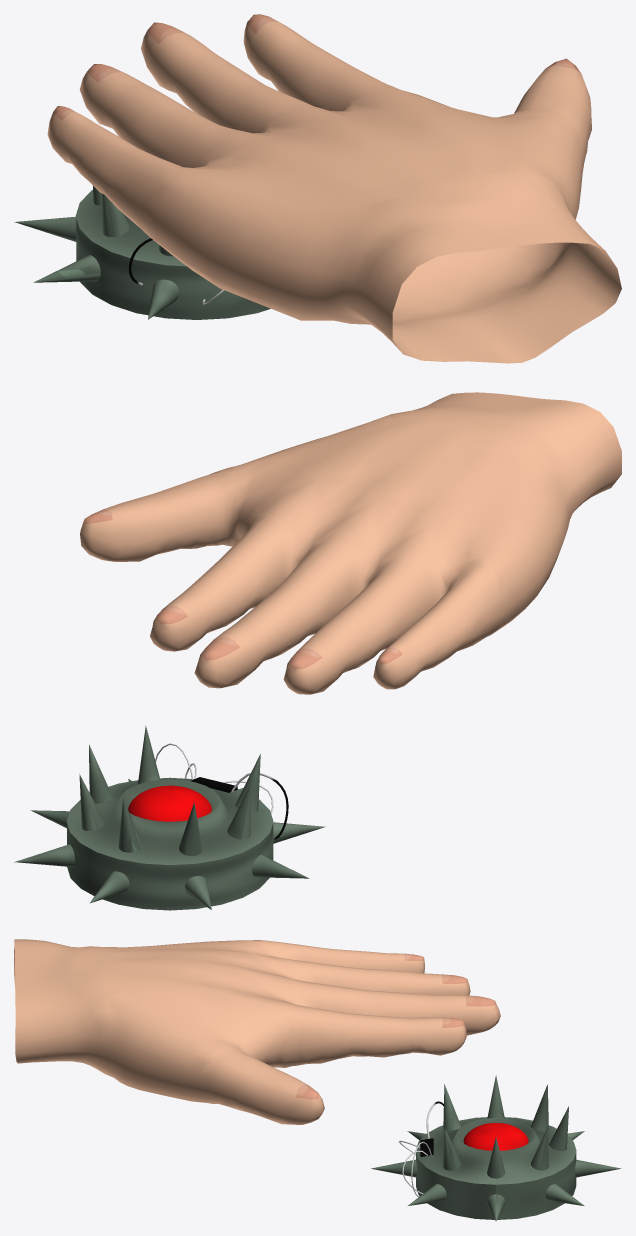
The model's file is 爆弾をたたくモーション.fbx.
3 renders of one model, top to bottom at view 1: azimuth 30°, elevation 25°; view 2: azimuth 150°, elevation 25°; view 3: azimuth 270°, elevation 25°, orthographic. The views are drawn at different scales.
Visible parts, largest first — view 1: hand, Cone001, Cone014, Cone002, Cone016; view 2: hand, Cone002, Cone001, Cone016, Cone014, Sphere001; view 3: hand, Cone002, Cone001, Cone016, Cone014, Sphere001.
Boxes of the visible parts, box(x1,y1,x2,y2) form: hand: box(47, 14, 621, 363); Cone001: box(76, 218, 270, 319); Cone014: box(14, 216, 179, 319); Cone002: box(75, 190, 186, 266); Cone016: box(93, 186, 173, 256); hand: box(80, 392, 621, 694); Cone002: box(66, 777, 273, 864); Cone001: box(67, 823, 273, 910); Cone016: box(79, 725, 260, 855); Cone014: box(14, 779, 325, 909); Sphere001: box(128, 785, 211, 821); hand: box(14, 939, 500, 1124); Cone002: box(416, 1117, 576, 1184); Cone001: box(416, 1152, 576, 1219); Cone016: box(443, 1075, 568, 1178); Cone014: box(371, 1131, 620, 1221); Sphere001: box(463, 1123, 528, 1150).
Bounding box in the file's own units: 112 × 72.1 × 191.
